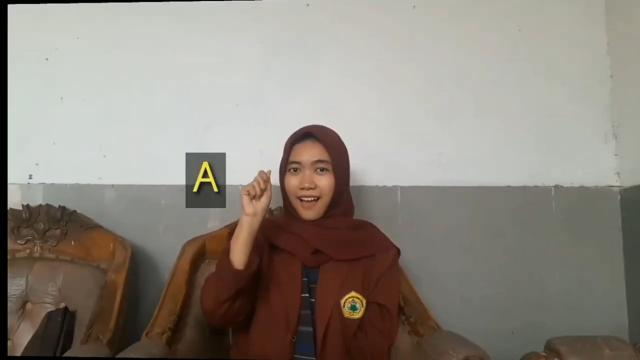A: (236, 166, 276, 222)
